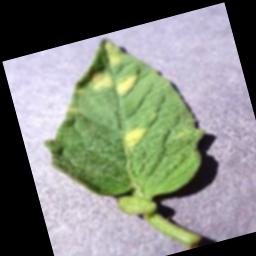Leaf_Mold: (117, 124, 151, 152), (113, 72, 144, 99), (89, 67, 117, 91)
